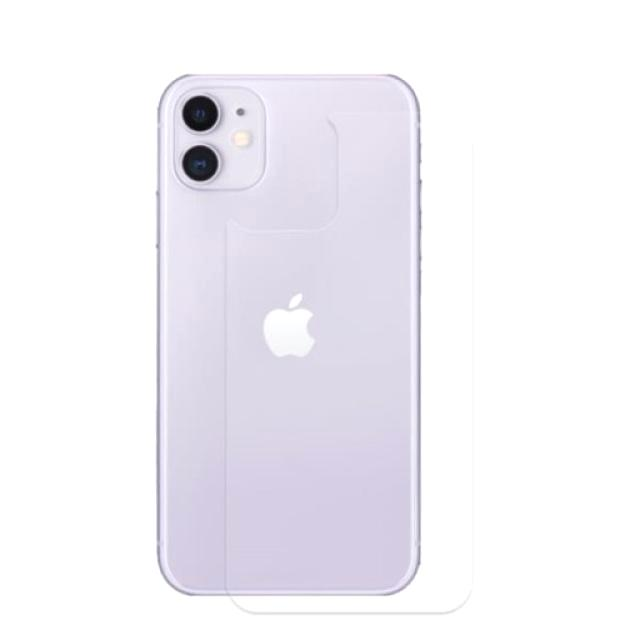lens: (172, 89, 268, 192)
phone: (155, 70, 423, 596)
